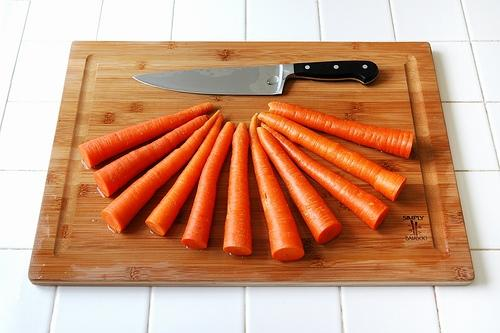carrot: (102, 110, 220, 234), (262, 122, 390, 230), (257, 112, 407, 202), (257, 128, 342, 244), (144, 113, 224, 236), (94, 115, 210, 197), (79, 102, 214, 168), (268, 101, 414, 159), (249, 114, 305, 262), (181, 122, 235, 250), (222, 121, 252, 256)
